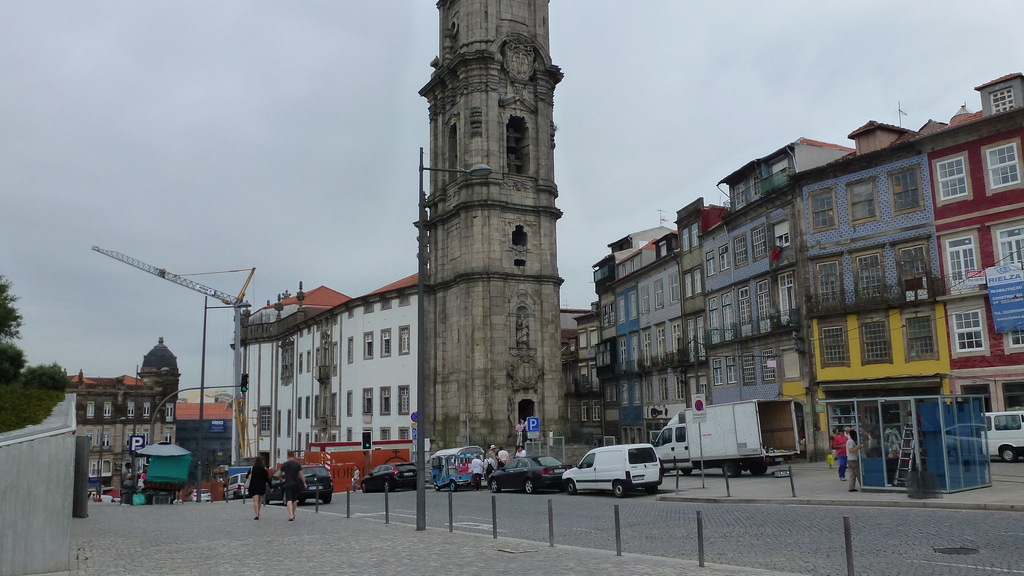clerigos: (416, 0, 565, 463)
